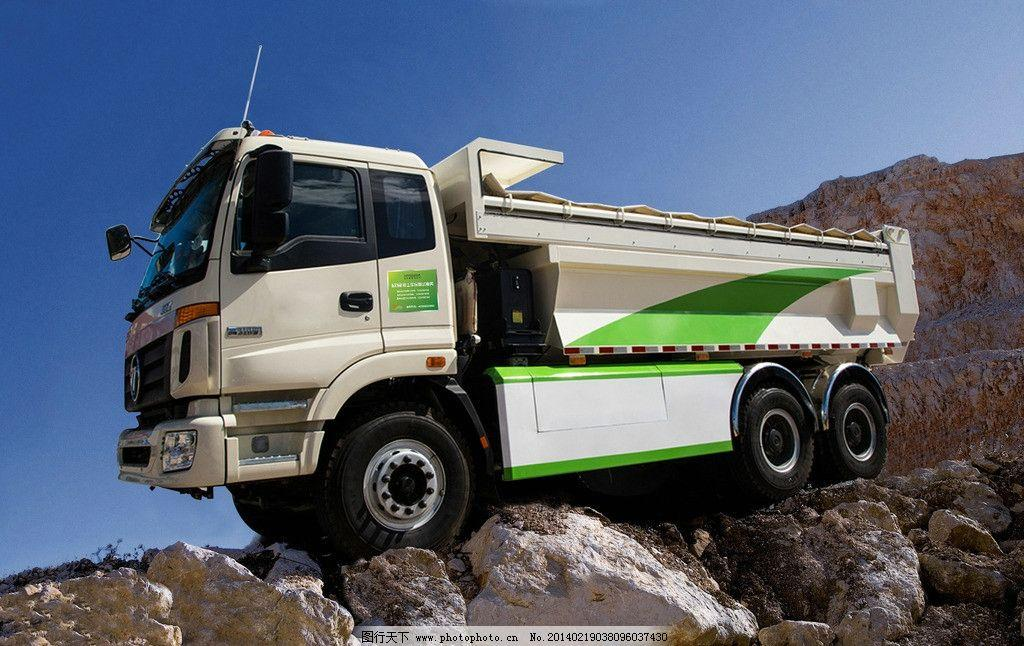truck: (109, 91, 931, 560)
